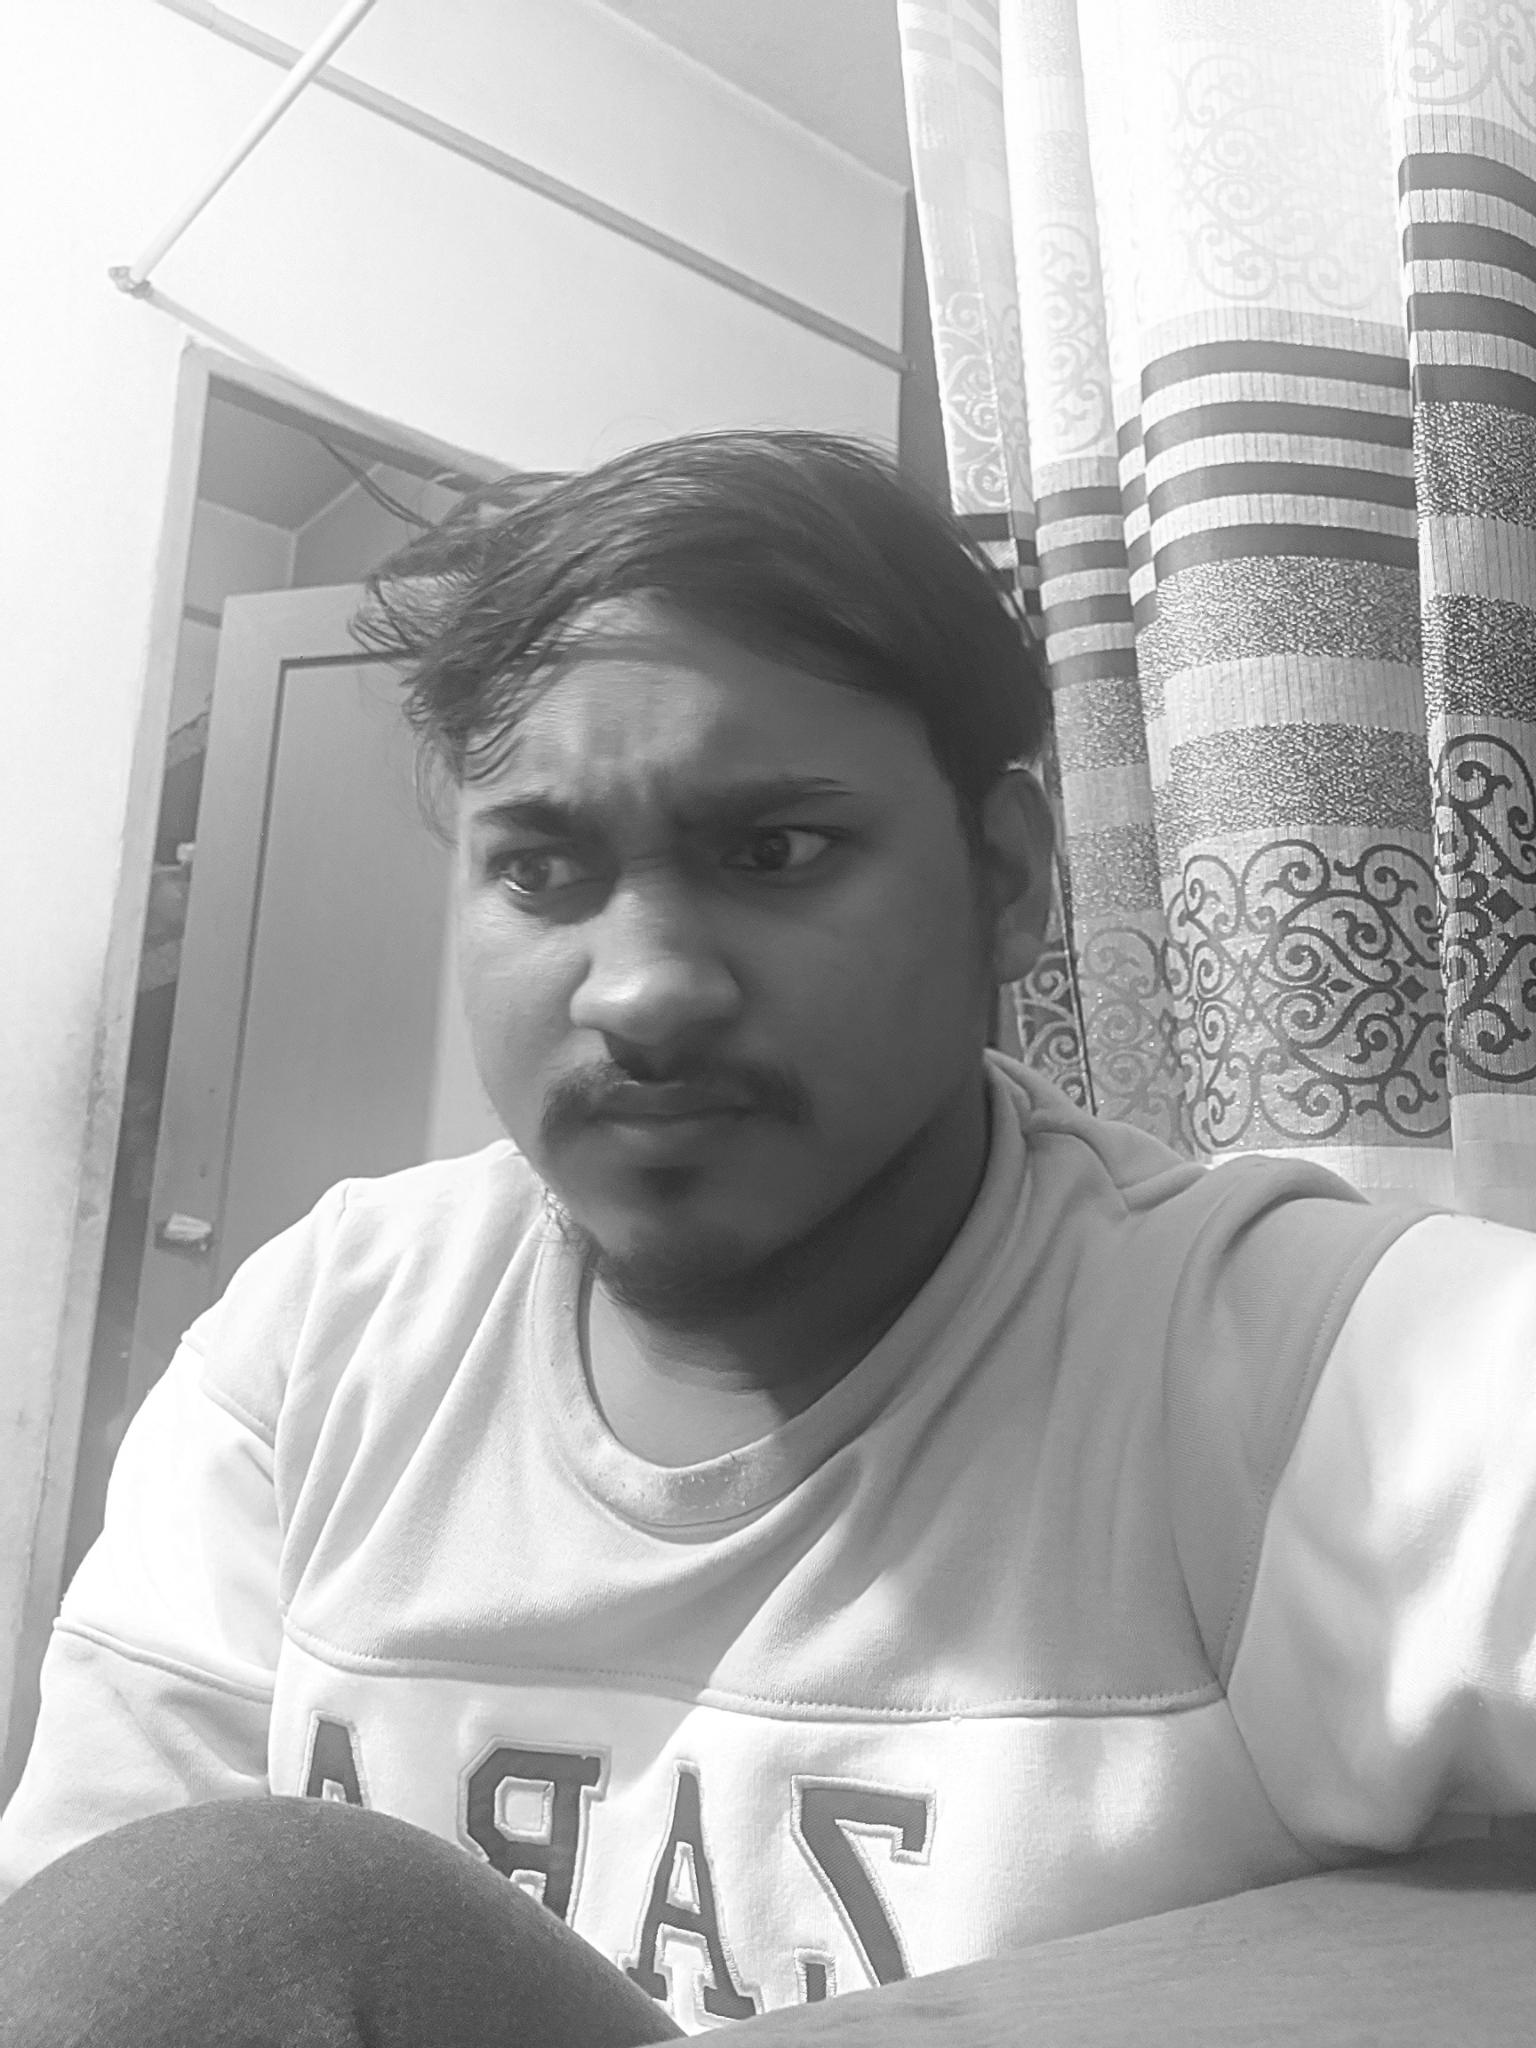Angry: (415, 690, 923, 1293)
